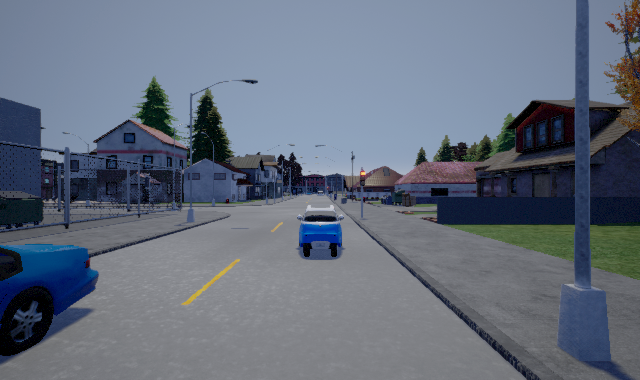traffic_light: (360, 168, 365, 188)
vehicle: (1, 244, 99, 356), (297, 214, 344, 257)
